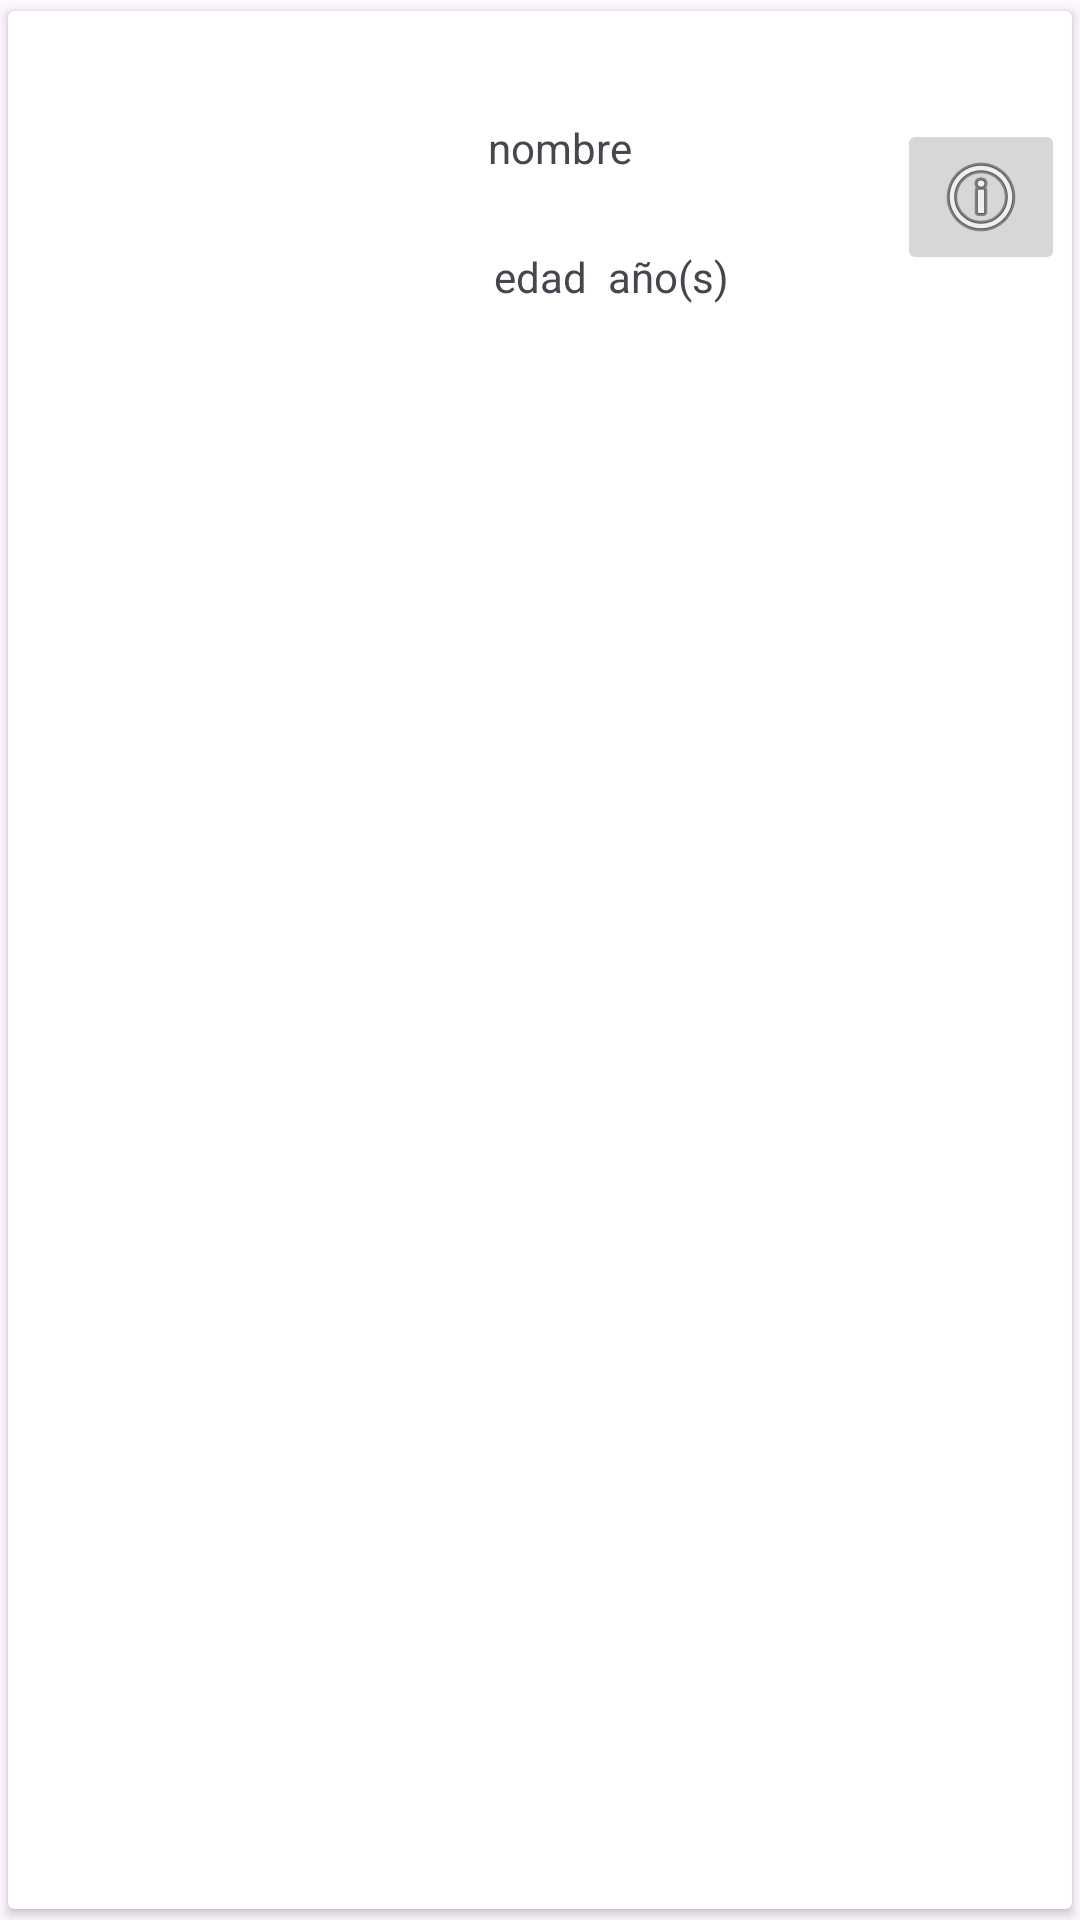

Point at icon controls on the screen. Image size 1080px x 1920px, points as [x,y].
info details: [981,197]
